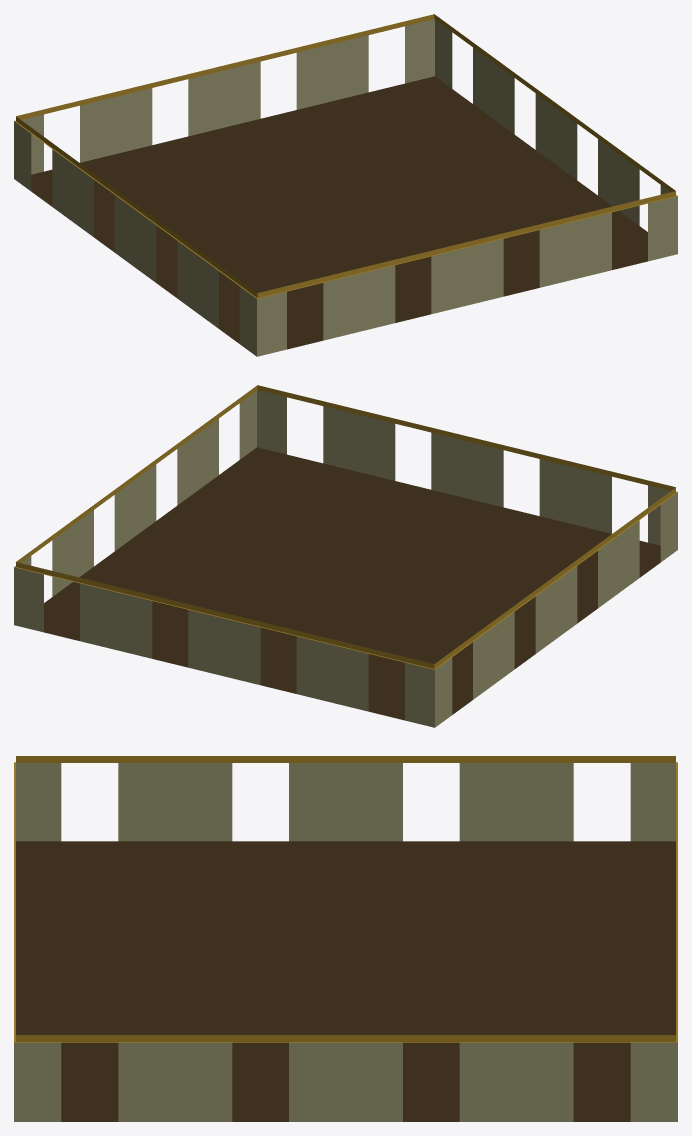
Rendered from 12x12Room.fbx.
3 renders of one model, top to bottom at view 1: azimuth 30°, elevation 25°; view 2: azimuth 150°, elevation 25°; view 3: azimuth 270°, elevation 25°, orthographic. The views are drawn at different scales.
Visible parts, largest first — view 1: 12x12Room; view 2: 12x12Room; view 3: 12x12Room.
Part boxes in pixels (left/top/right/bottom): 12x12Room: left=14, top=14, right=677, bottom=356; 12x12Room: left=14, top=385, right=677, bottom=727; 12x12Room: left=14, top=756, right=677, bottom=1121.
Size of the model in its own units: 3500 by 500 by 3500.
